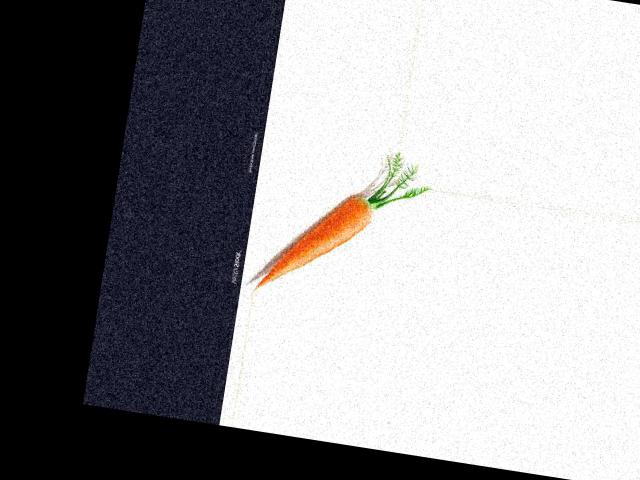carrot: (251, 179, 381, 305)
